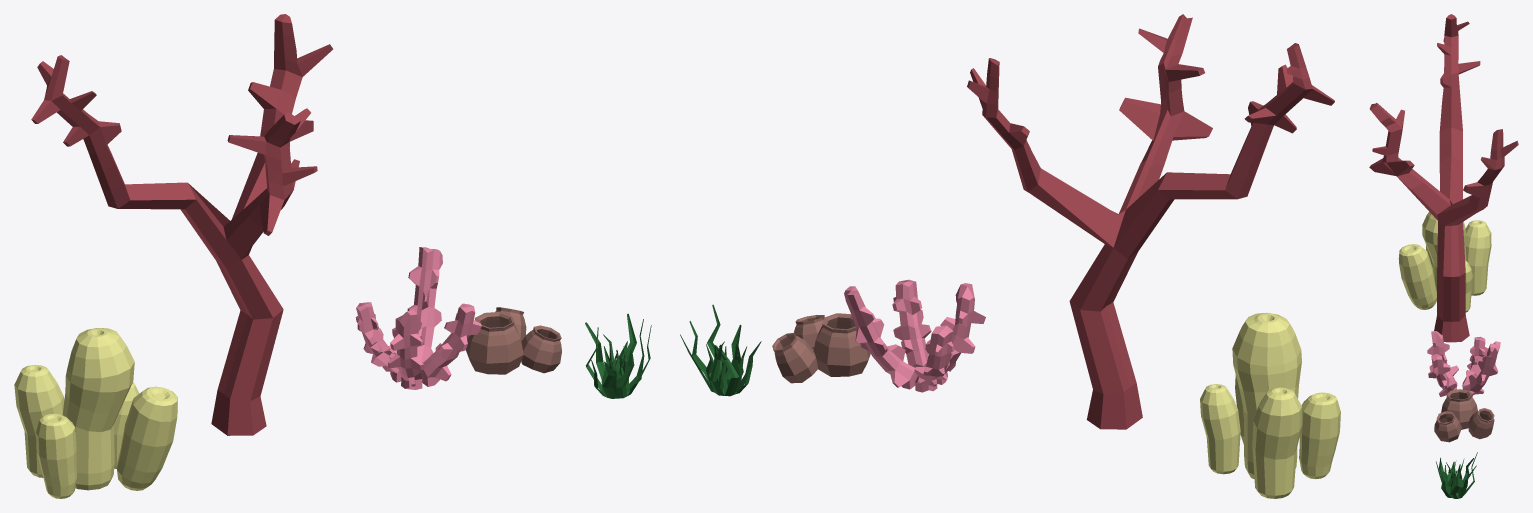
File: Coral.fbx
The picture shows the model from 3 angles, left to right: view 1: azimuth 30°, elevation 25°; view 2: azimuth 150°, elevation 25°; view 3: azimuth 270°, elevation 25°; orthographic projection. The views are drawn at different scales.
Visible parts, largest first — view 1: Cube, Cylinder, Cylinder.002, Cylinder.001, Cylinder.004, Cube.002, Plane, Cube.005, Cube.007, Cube.006, Cube.003, Cube.001 (+1 smaller); view 2: Cube, Cylinder, Cylinder.004, Cylinder.001, Cylinder.003, Cube.002, Cube.005, Plane, Cube.007, Cube.006, Cube.004, Cube.001; view 3: Cube, Cylinder.002, Cylinder.004, Plane, Cube.002, Cube.005, Cylinder, Cube.003, Cube.004, Cube.007, Cube.001, Cube.006 (+1 smaller).
Part boxes in pixels (left/top/right/bottom): Cube: left=31, top=14, right=333, bottom=435; Cylinder: left=62, top=328, right=134, bottom=490; Cylinder.002: left=117, top=386, right=177, bottom=490; Cylinder.001: left=36, top=413, right=76, bottom=498; Cylinder.004: left=14, top=365, right=64, bottom=477; Cube.002: left=466, top=312, right=523, bottom=374; Plane: left=585, top=313, right=651, bottom=398; Cube.005: left=407, top=247, right=442, bottom=362; Cube.007: left=419, top=303, right=481, bottom=386; Cube.006: left=388, top=309, right=424, bottom=389; Cube.003: left=521, top=325, right=561, bottom=373; Cube.001: left=355, top=302, right=401, bottom=382; Cube: left=967, top=14, right=1334, bottom=429; Cylinder: left=1232, top=312, right=1301, bottom=479; Cylinder.004: left=1252, top=387, right=1302, bottom=498; Cylinder.001: left=1299, top=392, right=1340, bottom=479; Cylinder.003: left=1200, top=384, right=1240, bottom=474; Cube.002: left=813, top=313, right=870, bottom=376; Cube.005: left=844, top=286, right=917, bottom=389; Plane: left=680, top=304, right=761, bottom=396; Cube.007: left=892, top=279, right=931, bottom=367; Cube.006: left=937, top=283, right=985, bottom=384; Cube.004: left=772, top=332, right=818, bottom=383; Cube.001: left=914, top=325, right=953, bottom=392; Cube: left=1369, top=14, right=1518, bottom=342; Cylinder.002: left=1398, top=244, right=1436, bottom=309; Cylinder.004: left=1465, top=220, right=1491, bottom=295; Plane: left=1436, top=452, right=1477, bottom=498; Cube.002: left=1441, top=389, right=1477, bottom=429; Cube.005: left=1462, top=341, right=1500, bottom=397; Cylinder: left=1422, top=212, right=1466, bottom=301; Cube.003: left=1434, top=411, right=1461, bottom=442; Cube.004: left=1468, top=408, right=1494, bottom=439; Cube.007: left=1428, top=354, right=1457, bottom=397; Cube.001: left=1462, top=336, right=1488, bottom=387; Cube.006: left=1427, top=331, right=1458, bottom=386.
Size of the model in its own units: 1431 by 1041 by 462.
